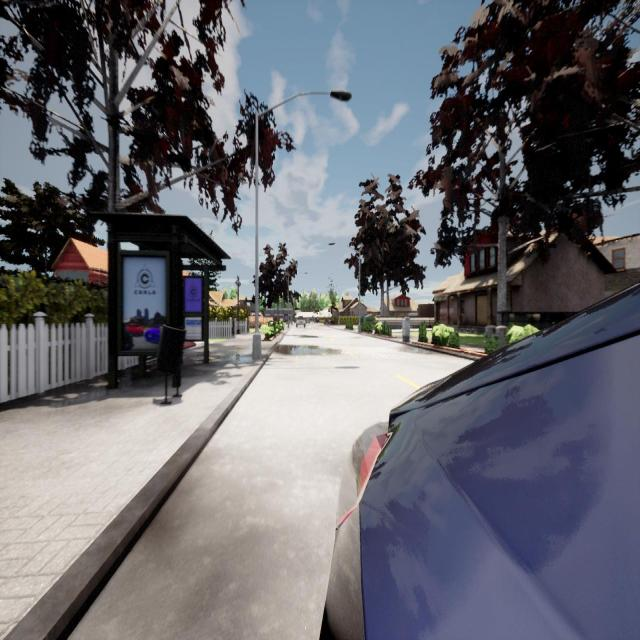Vehicle: (320, 289, 639, 640), (295, 316, 306, 328)
